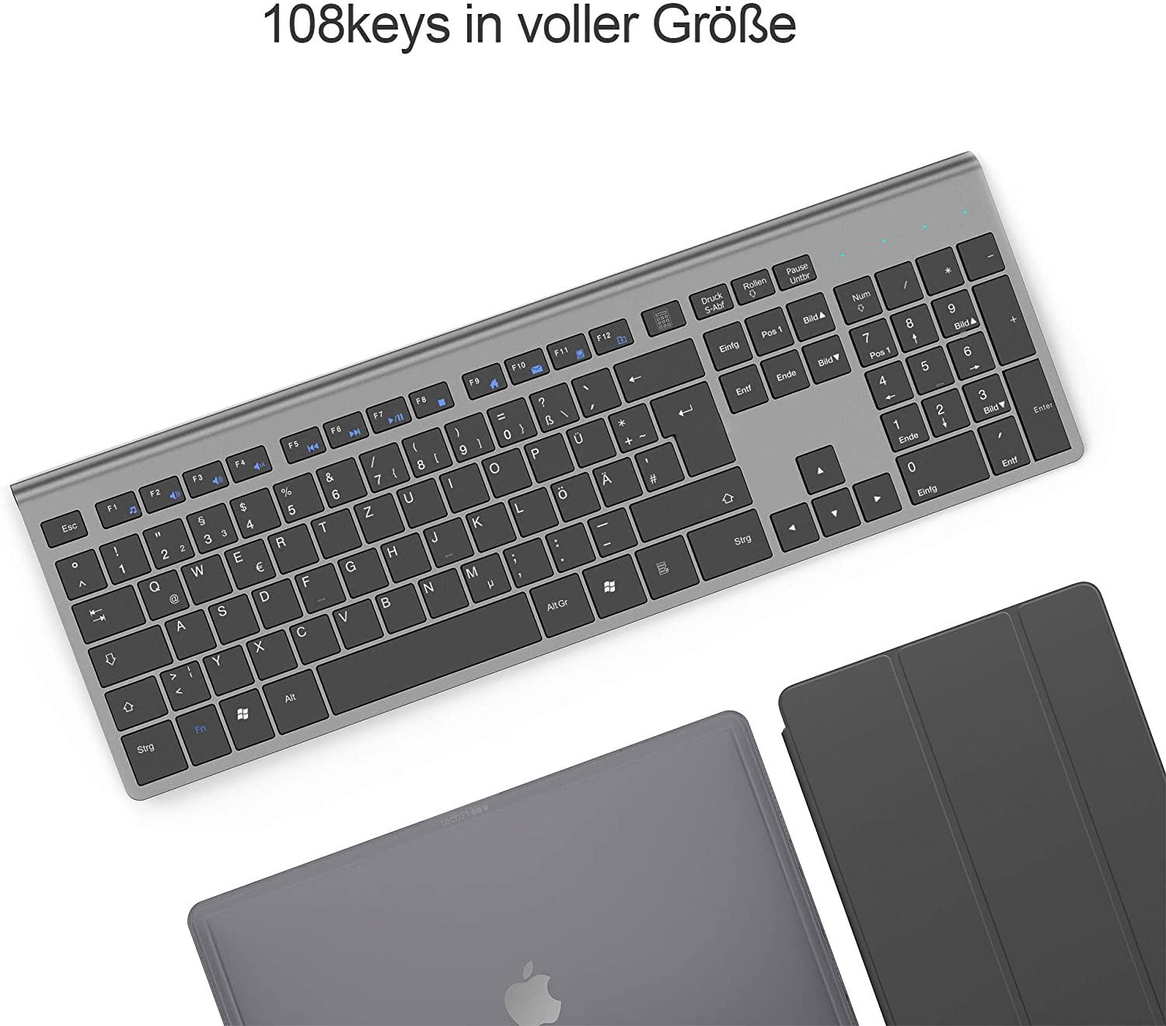0: (484, 393, 536, 442)
1: (97, 532, 149, 579)
2: (141, 516, 192, 563)
3: (183, 500, 236, 548)
4: (226, 484, 278, 532)
5: (270, 469, 322, 517)
6: (312, 454, 365, 502)
7: (357, 438, 407, 487)
8: (399, 423, 449, 472)
9: (442, 408, 492, 458)
a: (162, 606, 214, 656)
accent: (568, 362, 619, 413)
ae: (589, 453, 641, 502)
alt-left: (260, 665, 327, 731)
altgr-right: (527, 571, 593, 633)
b: (371, 581, 424, 631)
c: (285, 612, 340, 661)
caret: (54, 547, 106, 595)
comma: (500, 535, 551, 585)
d: (248, 575, 301, 626)
del: (609, 335, 703, 398)
e: (220, 536, 274, 585)
enter: (649, 379, 734, 472)
f: (291, 560, 344, 609)
g: (334, 545, 387, 594)
h: (377, 530, 430, 578)
hash: (632, 438, 682, 489)
i: (438, 459, 487, 509)
j: (421, 514, 472, 564)
k: (463, 498, 515, 549)
keyboard: (7, 141, 1086, 808)
l: (506, 483, 557, 533)
less: (157, 658, 210, 708)
m: (457, 550, 508, 600)
minus: (585, 505, 636, 553)
n: (415, 566, 466, 616)
o: (478, 445, 530, 495)
oe: (546, 469, 599, 518)
p: (521, 431, 572, 480)
plus: (605, 400, 655, 448)
point: (542, 520, 594, 568)
q: (133, 566, 187, 616)
r: (264, 521, 317, 570)
s: (204, 591, 257, 640)
shift-left: (105, 673, 167, 728)
shift-lock: (86, 623, 171, 684)
shift-right: (627, 462, 751, 537)
space: (315, 588, 540, 714)
ss: (525, 377, 576, 427)
strg-left: (119, 717, 187, 783)
strg-right: (685, 507, 773, 577)
t: (309, 505, 361, 556)
tab: (71, 581, 144, 641)
u: (393, 475, 445, 525)
ue: (562, 415, 616, 464)
v: (330, 596, 382, 646)
w: (178, 551, 230, 601)
x: (243, 628, 295, 679)
y: (201, 643, 253, 694)
z: (351, 490, 403, 540)
